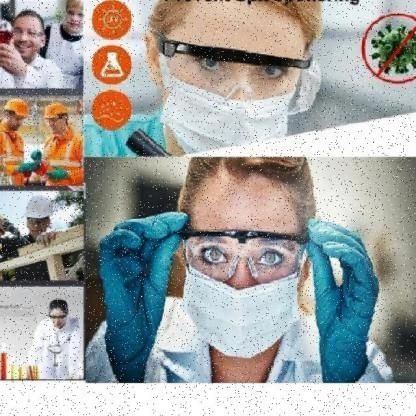oculos: (144, 24, 318, 115), (180, 226, 313, 287)
